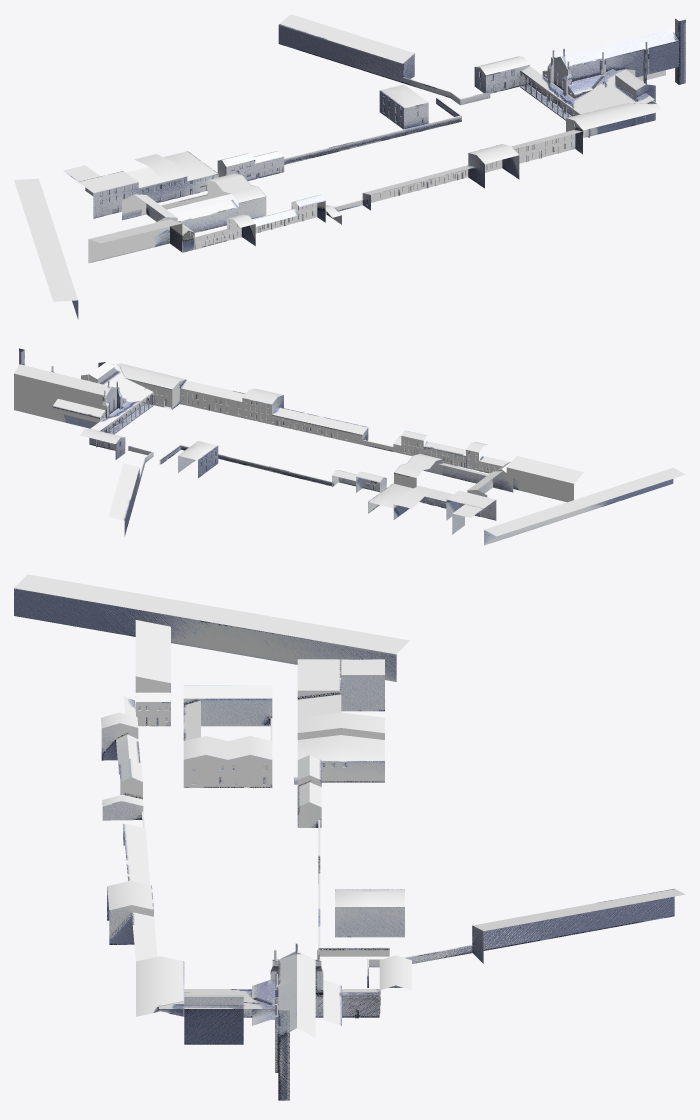
File: Edifici cucinati FX.glb
3 views of the same model, one above another, from view 1: azimuth 30°, elevation 25°; view 2: azimuth 150°, elevation 25°; view 3: azimuth 270°, elevation 25° (orthographic). The views are drawn at different scales.
Visible parts, largest first — view 1: Contesto; view 2: Contesto; view 3: Contesto.
Boxes of the visible parts, x1=… form: Contesto: x1=14, y1=14, x2=685, y2=319; Contesto: x1=14, y1=348, x2=685, y2=545; Contesto: x1=14, y1=574, x2=685, y2=1100.
Size of the model in its own units: 310 by 26.19 by 176.
1 material, 1 textured.
